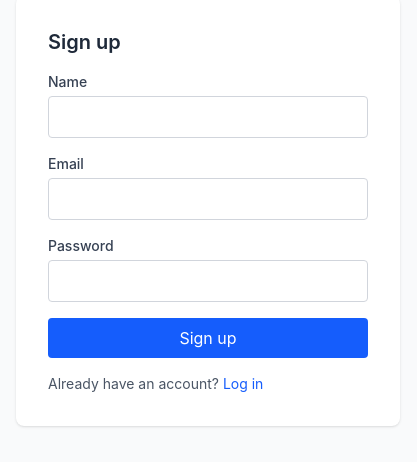
Scenario: SignupPage › submits valid input and shows the API error on failure
In the field labelled "Name": (208, 117) [48, 96, 368, 138], type "Ada"
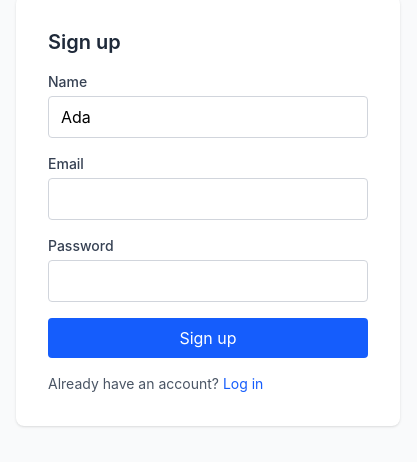
In the field labelled "Email": (208, 199) [48, 178, 368, 220], type "ada@example.com"
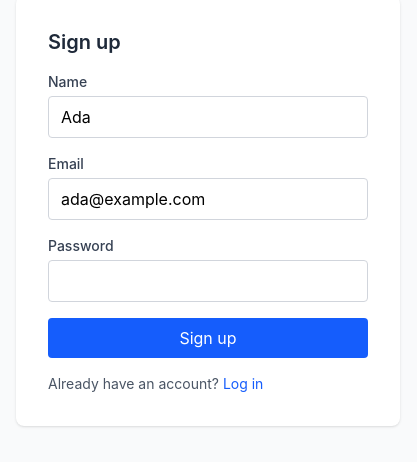
In the password field labelled "Password": (208, 281) [48, 260, 368, 302], type "Secret1!"
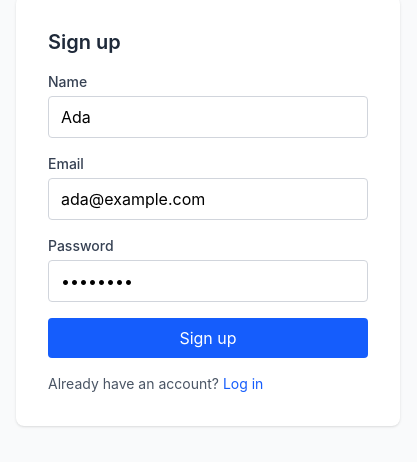
Click the button "Sign up": (208, 338) [48, 318, 368, 358]
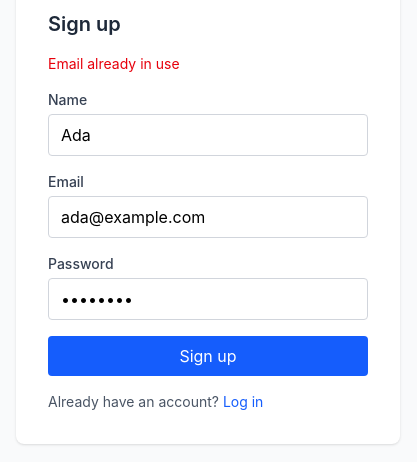
Expected: the text "Email already in use" is shown, [48, 55, 180, 72]
